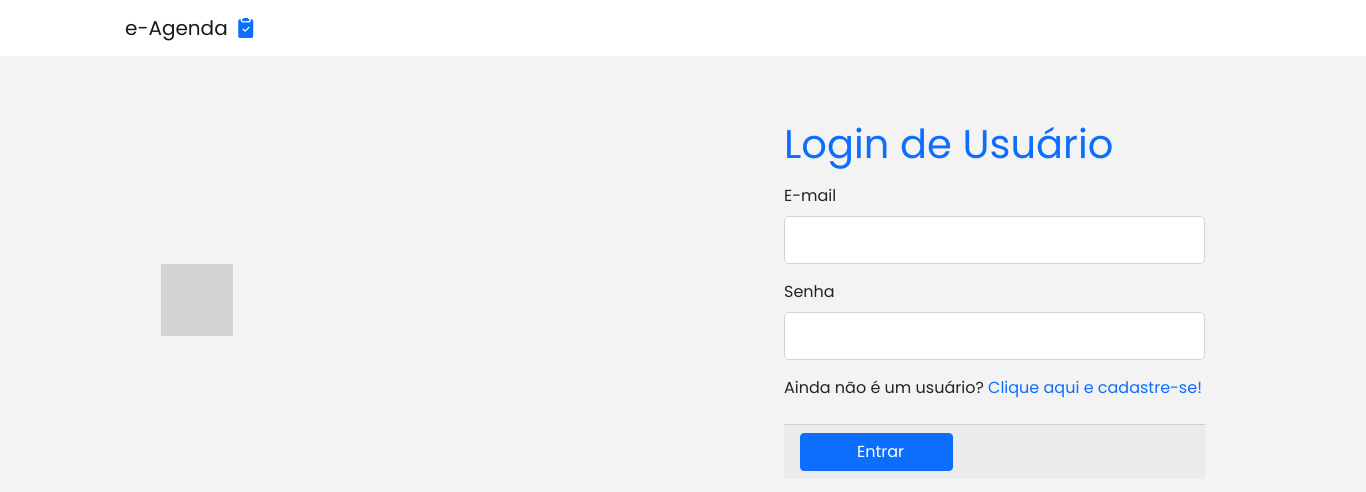
Test: Processo de Login do Usuário › Deve notificar sobre formulário inválido
Type "tiago" into the field with test id "email" at (995, 240), box [784,216,1205,264]
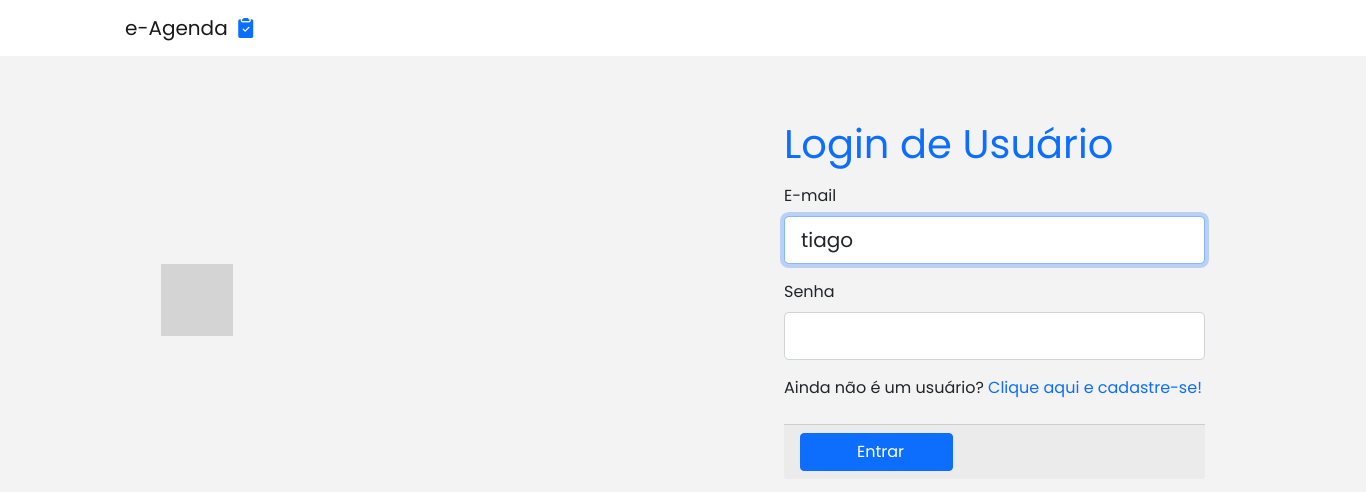
Type "Teste@123" into the password field with test id "senha" at (995, 336), box [784,312,1205,360]
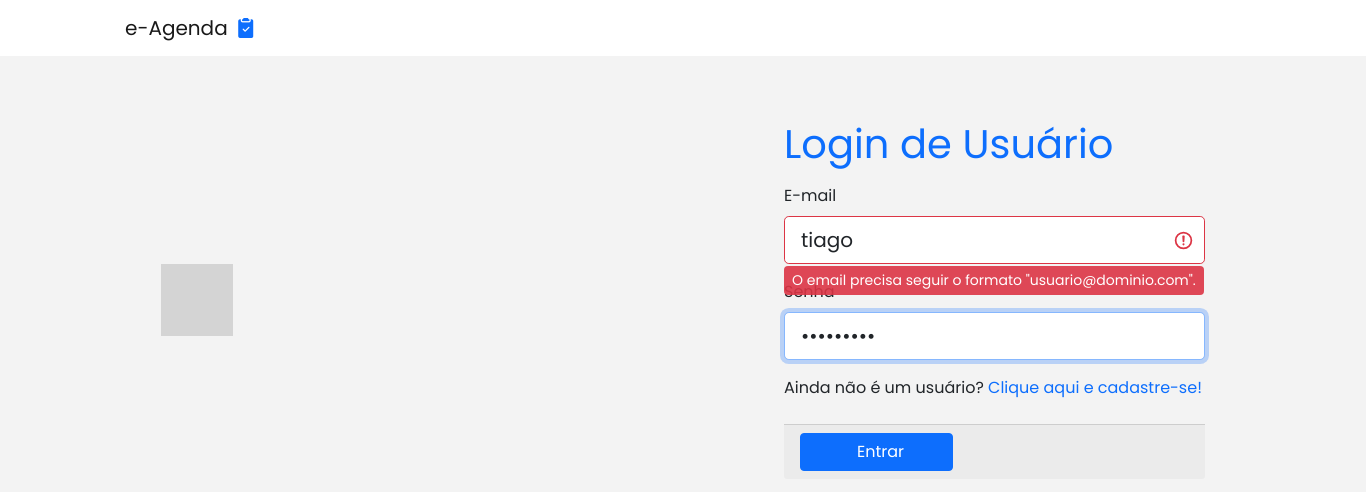
Click the button with test id "btnEntrar" at (877, 452), box [800,433,953,471]
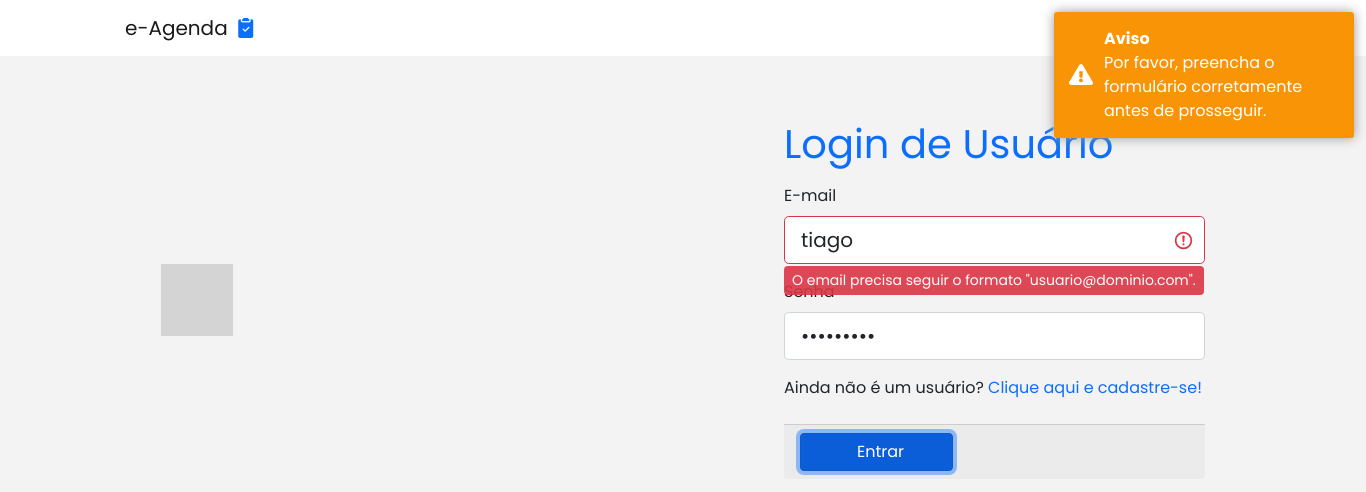
Expected: the text "Por favor, preencha o formulário corretamente antes de prosseguir." is shown, [1104,51,1302,122]
